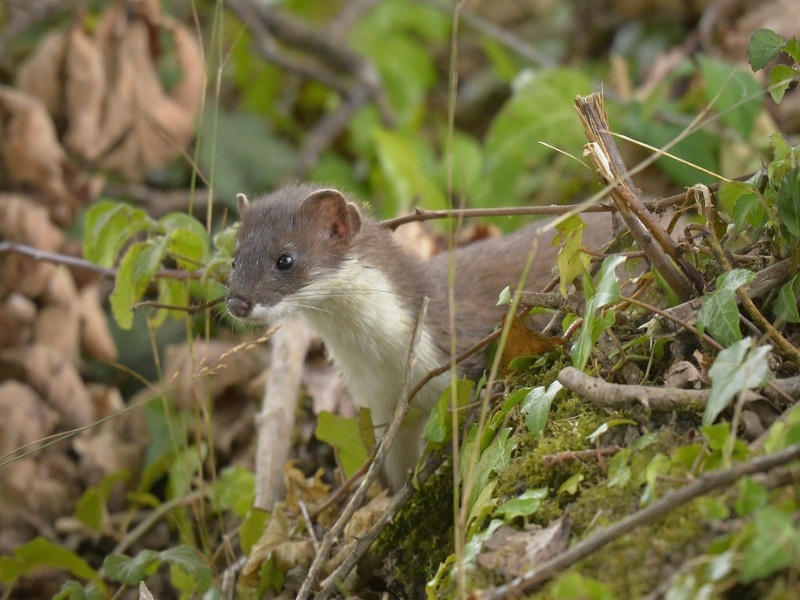minkish: (222, 176, 683, 516)
